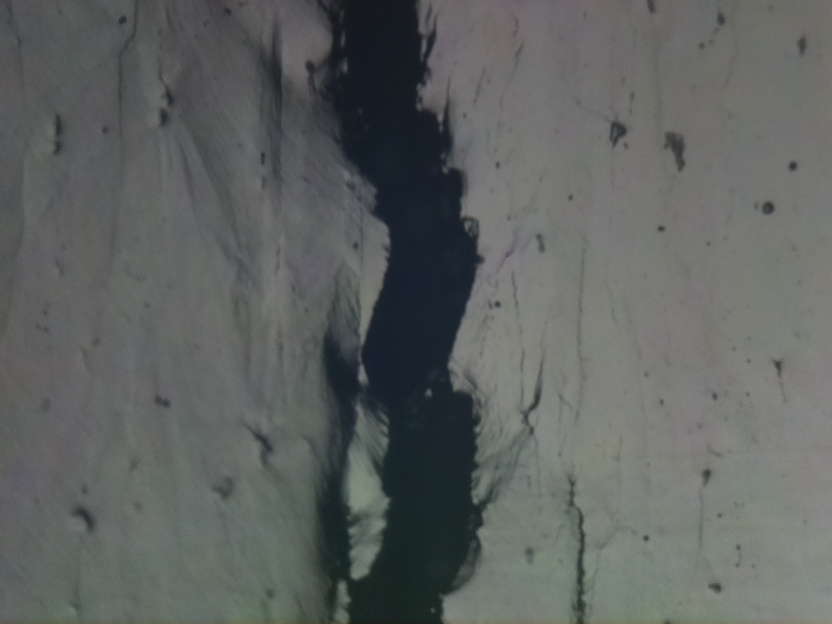crack: (311, 0, 480, 624), (561, 476, 597, 624)
